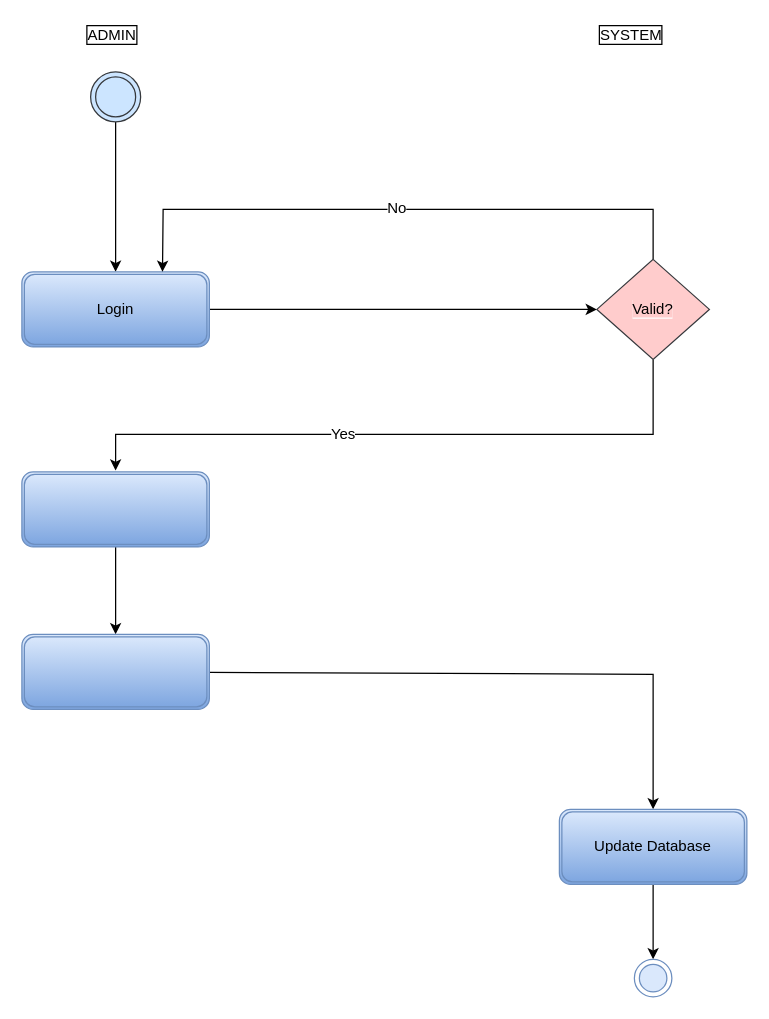
This 769x1019 diagram has some shape labels left out. Here are the shapes that lost their labels. From the top down, the centre of each, then its label:
At pixel 115 509: "Enter Vehicle Detail".
At pixel 115 671: "Add to Inventory".
